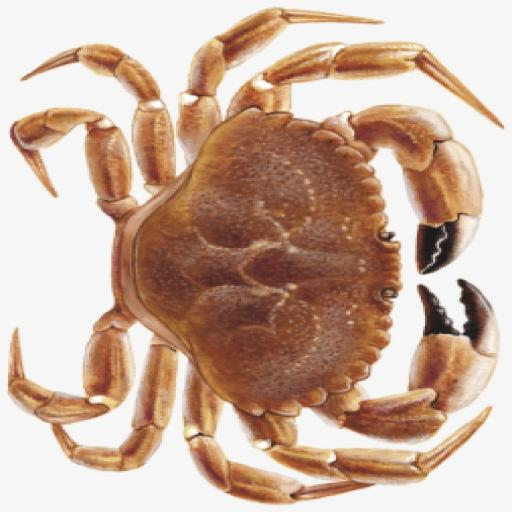John Crab: (8, 0, 494, 502)
